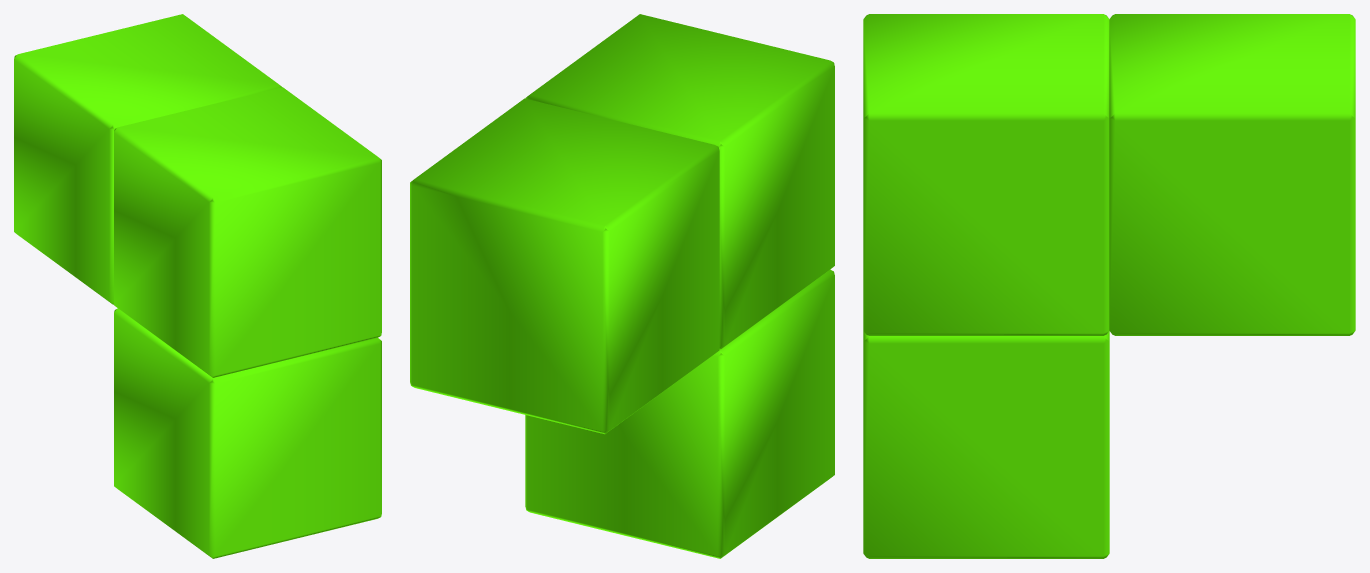
The model's file is lightgreen_block_base_link.dae.
3 views of the same model, side by side, from view 1: azimuth 30°, elevation 25°; view 2: azimuth 150°, elevation 25°; view 3: azimuth 270°, elevation 25° (orthographic). The views are drawn at different scales.
Visible parts, largest first — view 1: root (×3); view 2: root (×3); view 3: root (×3).
Part boxes in pixels (<box>): root (×3): <box>14,14,381,558</box>; root (×3): <box>410,14,834,558</box>; root (×3): <box>863,14,1355,558</box>.
Bounding box in the file's own units: 0.03 × 0.06 × 0.06.
